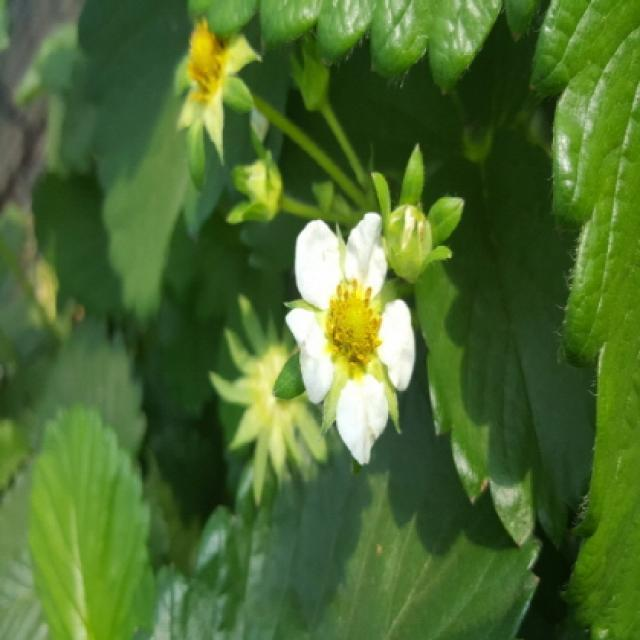Blossom Blight: (320, 273, 386, 384)
